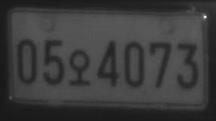0: (123, 41, 145, 86), (17, 38, 37, 83)
3: (176, 43, 199, 88)
4: (96, 40, 121, 87)
5: (42, 39, 65, 84)
7: (148, 42, 171, 88)
오: (68, 49, 90, 86)
